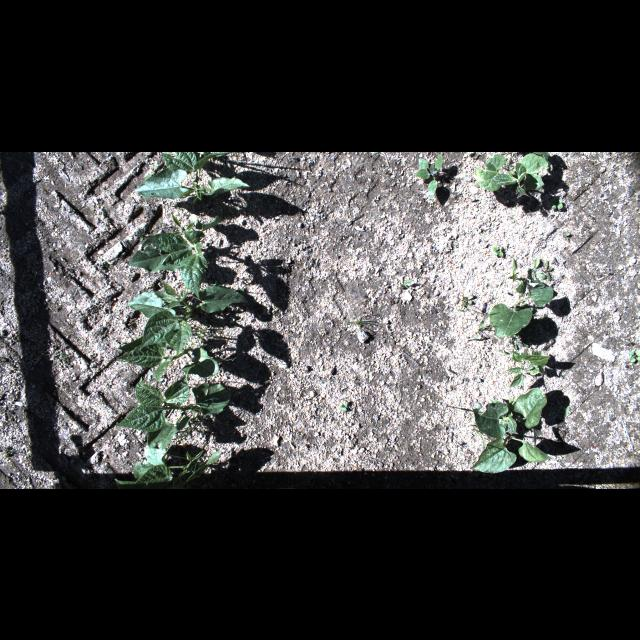crop: (126, 278, 250, 356), (114, 370, 230, 448), (129, 211, 223, 299), (470, 388, 552, 472), (114, 332, 220, 386), (133, 151, 251, 199), (115, 442, 221, 488), (491, 276, 554, 338), (474, 152, 552, 192), (506, 349, 550, 387)
weed: (413, 153, 443, 200), (526, 258, 546, 278), (628, 348, 640, 362), (550, 198, 562, 208), (546, 260, 552, 280), (492, 246, 502, 256), (337, 401, 347, 411)
